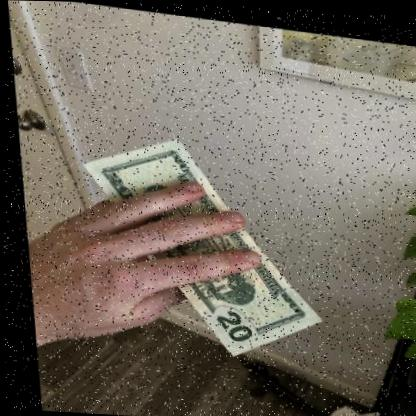dollar_back: (77, 135, 317, 353)
